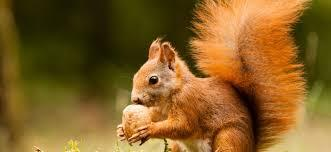Non_Gorille: (111, 3, 308, 152)
